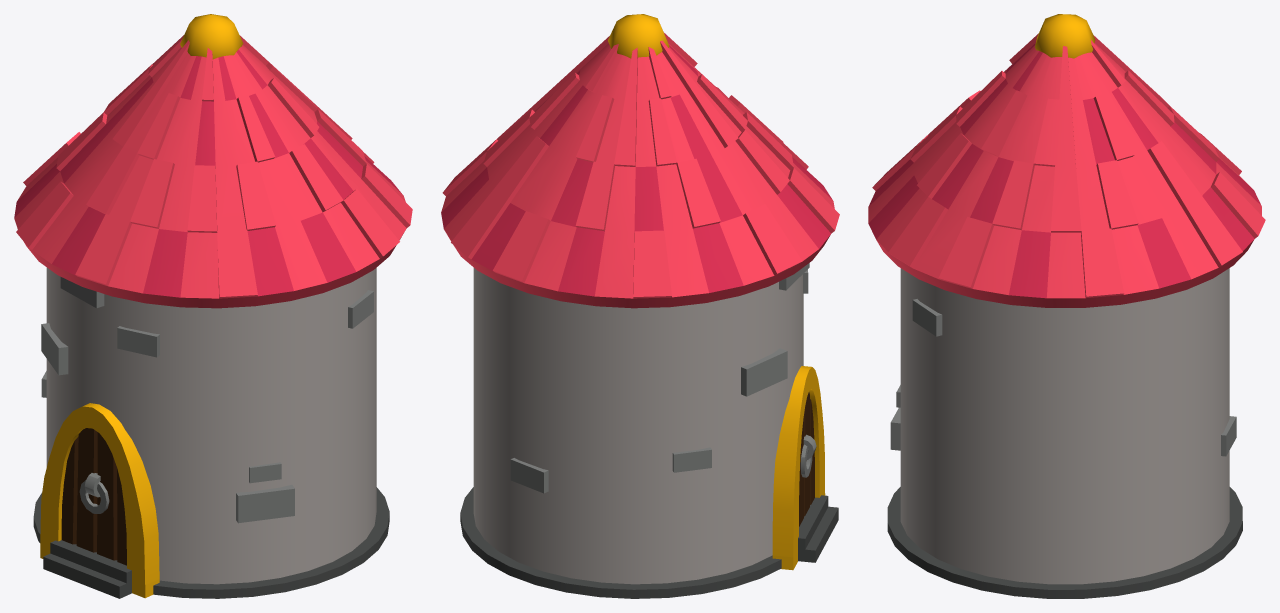
File: SM_Burg.fbx
3 renders of one model, left to right at view 1: azimuth 30°, elevation 25°; view 2: azimuth 150°, elevation 25°; view 3: azimuth 270°, elevation 25°, orthographic.
Visible parts, largest first — view 1: Burg.001; view 2: Burg.001; view 3: Burg.001.
Part boxes in pixels (bbox=[...]): Burg.001: bbox=[14, 14, 412, 598]; Burg.001: bbox=[441, 14, 839, 598]; Burg.001: bbox=[868, 14, 1265, 598].
Size of the model in its own units: 263 by 369 by 261.
